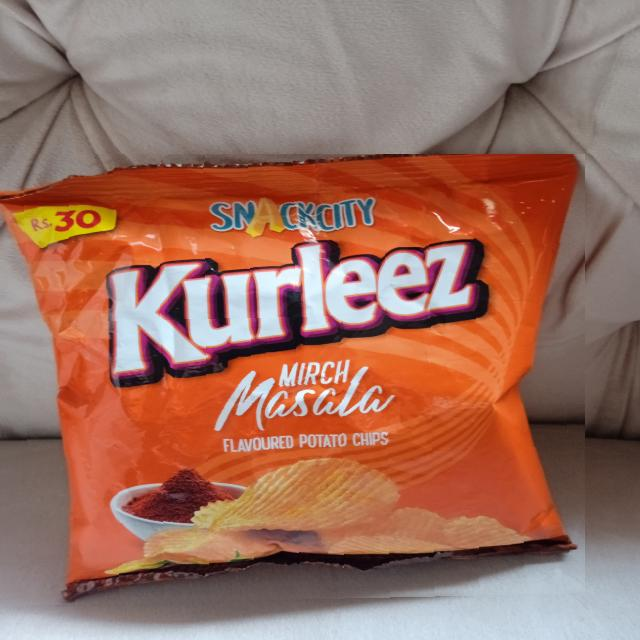Plastic: (0, 154, 585, 606)
